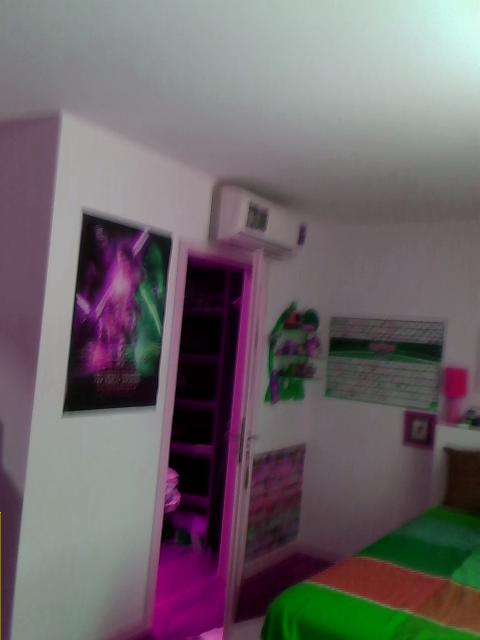semi_door: (144, 230, 274, 634)
